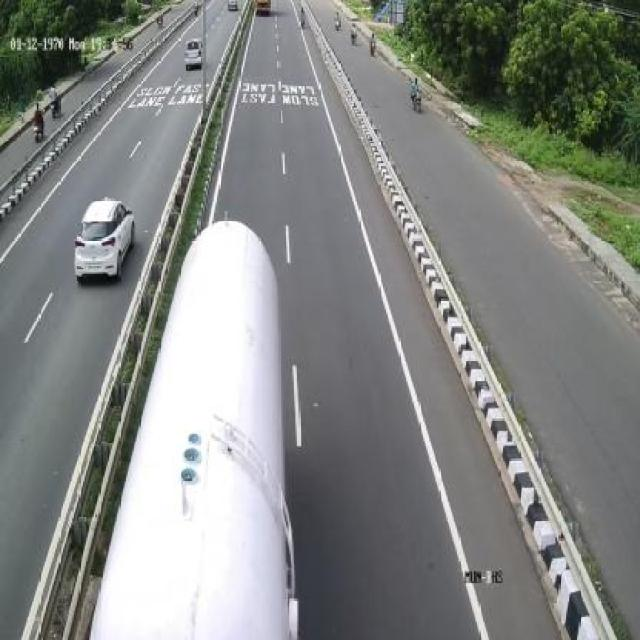car: (77, 195, 137, 288), (182, 34, 204, 68)
